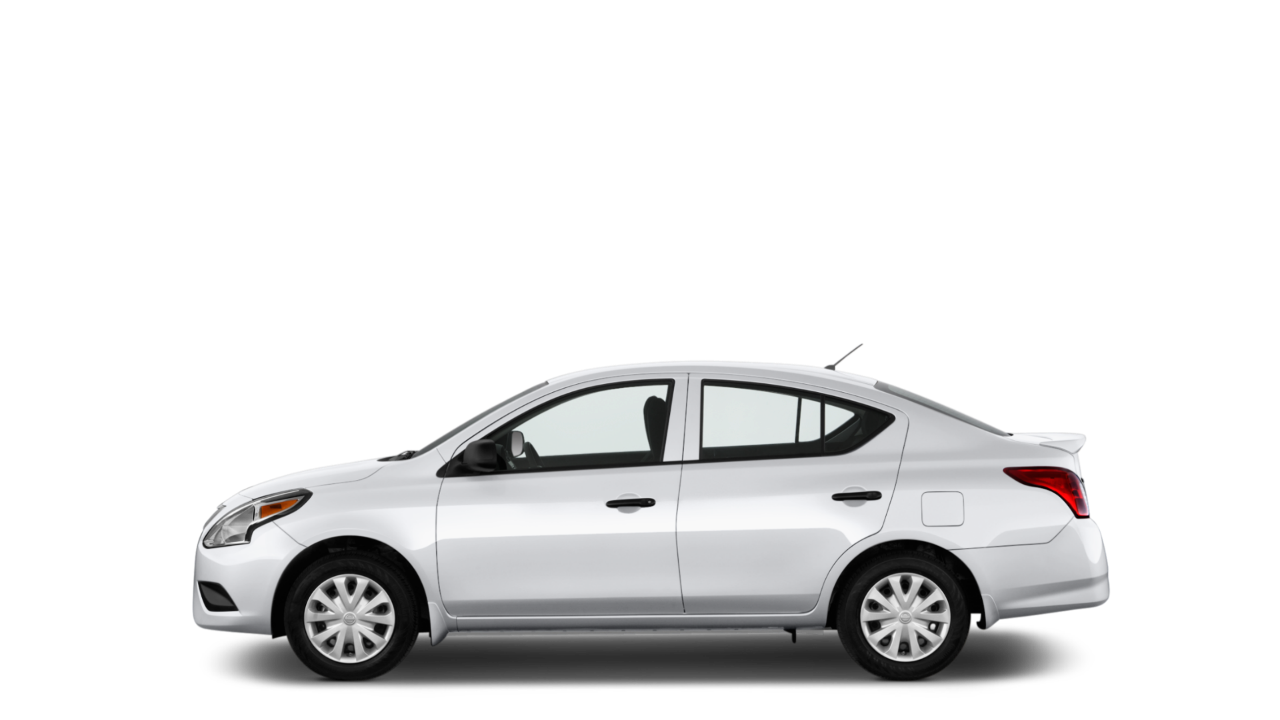car: (160, 341, 1169, 718)
